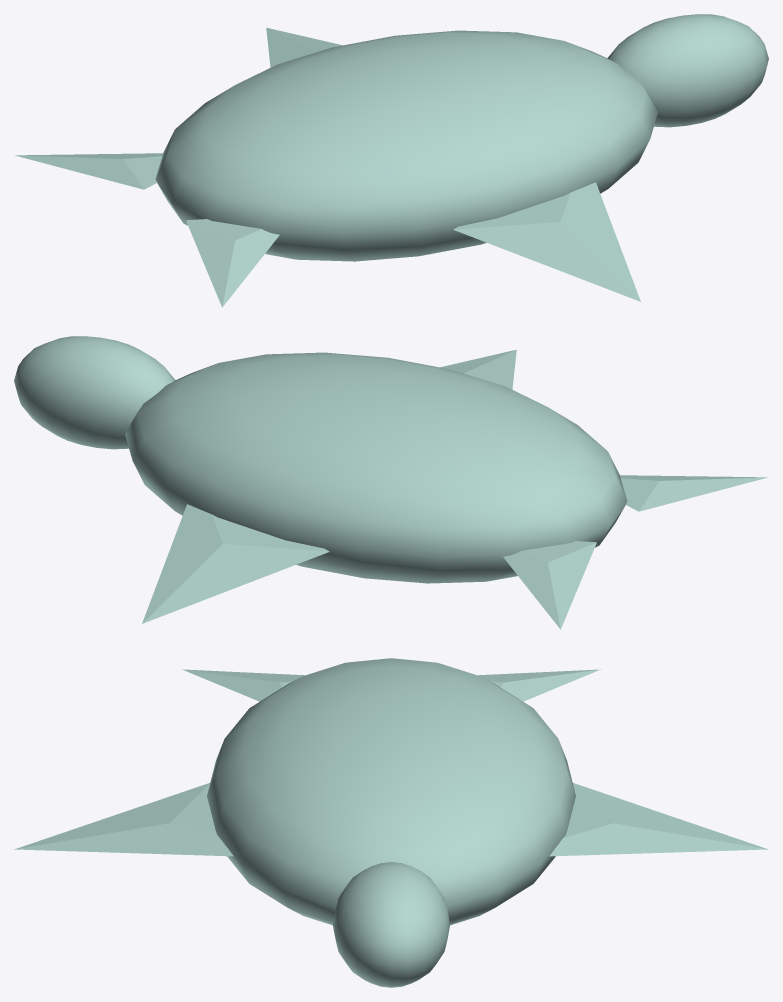
3 renders of one model, top to bottom at view 1: azimuth 30°, elevation 25°; view 2: azimuth 150°, elevation 25°; view 3: azimuth 270°, elevation 25°, orthographic.
Parts seen in each view (by area): view 1: Shell, Head, Front flipper, Back flipper, Back flipper.001, Front flipper.001; view 2: Shell, Head, Front flipper.001, Back flipper.001, Back flipper, Front flipper; view 3: Shell, Head, Front flipper, Front flipper.001, Back flipper, Back flipper.001.
Part boxes in pixels (x1,y1,x2,y2): Shell: (155,30,657,261); Head: (607,14,768,127); Front flipper: (453,182,640,301); Back flipper: (186,219,279,307); Back flipper.001: (15,153,162,189); Front flipper.001: (266,27,342,67); Shell: (125,352,627,583); Head: (14,336,175,449); Front flipper.001: (142,504,329,623); Back flipper.001: (503,541,596,629); Back flipper: (620,475,767,511); Front flipper: (440,349,516,389); Shell: (207,658,575,925); Head: (333,862,449,987); Front flipper: (14,783,233,856); Front flipper.001: (549,783,768,856); Back flipper: (182,669,304,701); Back flipper.001: (478,669,600,701).
Bounding box in the file's own units: 179 × 40 × 180.
